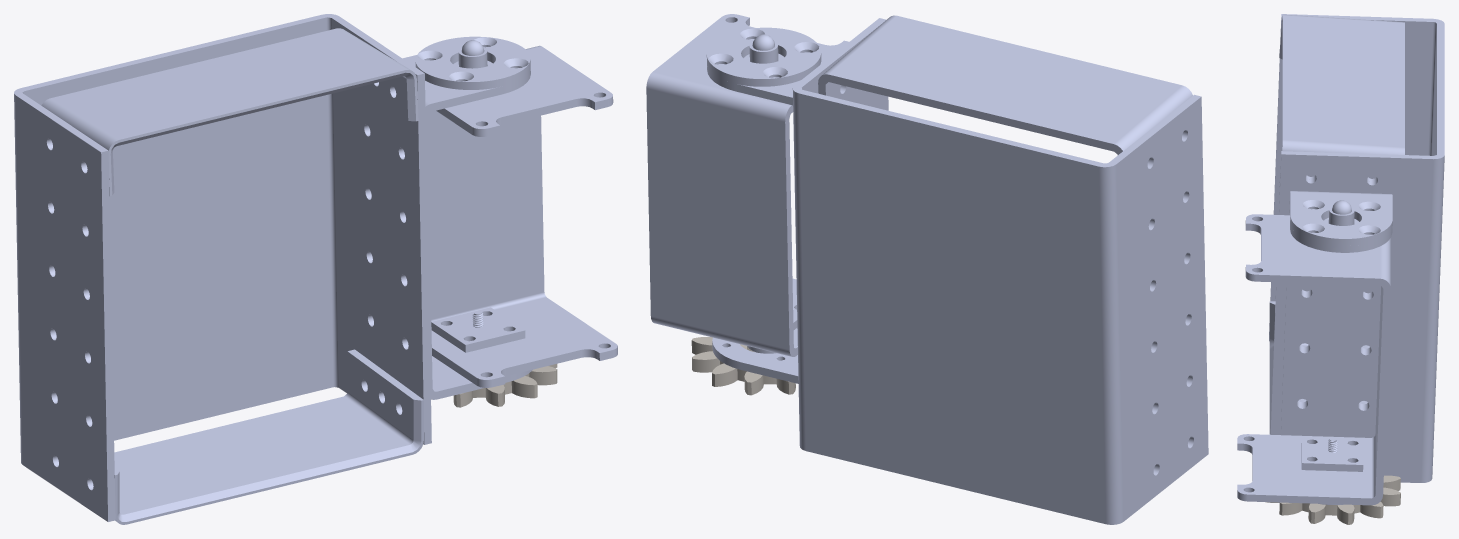
File: hand_right.obj
3 views of the same model, side by side, from view 1: azimuth 30°, elevation 25°; view 2: azimuth 150°, elevation 25°; view 3: azimuth 270°, elevation 25° (orthographic). The views are drawn at different scales.
Size of the model in its own units: 0.0997 by 0.0728 by 0.0406.
